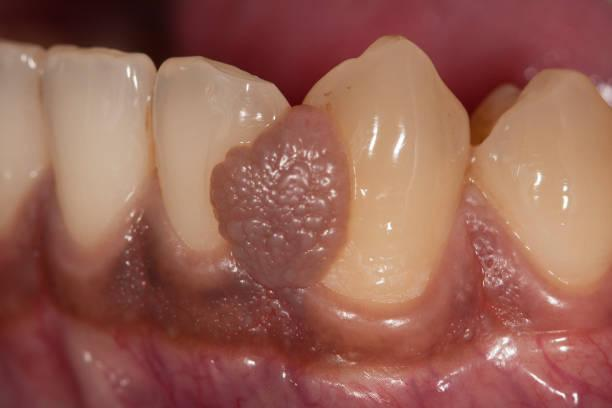Gingivitis: (394, 157, 584, 344), (210, 107, 372, 313), (99, 184, 239, 328)
